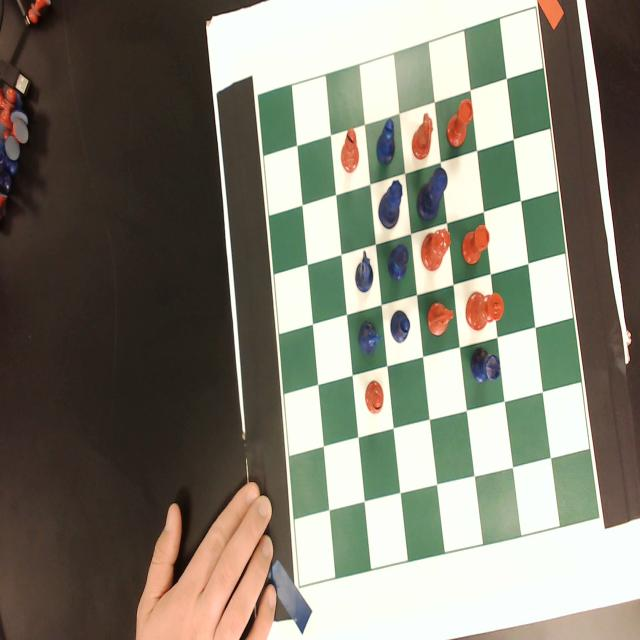B: (376, 116, 397, 168), (388, 309, 412, 342)
K: (416, 166, 448, 227)
N: (357, 318, 383, 355), (354, 249, 374, 293)
Q: (378, 178, 403, 230)
R: (471, 346, 502, 387), (387, 242, 410, 284)
b: (340, 127, 360, 174), (364, 379, 385, 416)
k: (465, 291, 505, 334)
n: (410, 110, 435, 160), (426, 300, 454, 339)
q: (420, 227, 452, 274)
r: (447, 98, 474, 149), (462, 224, 490, 266)
